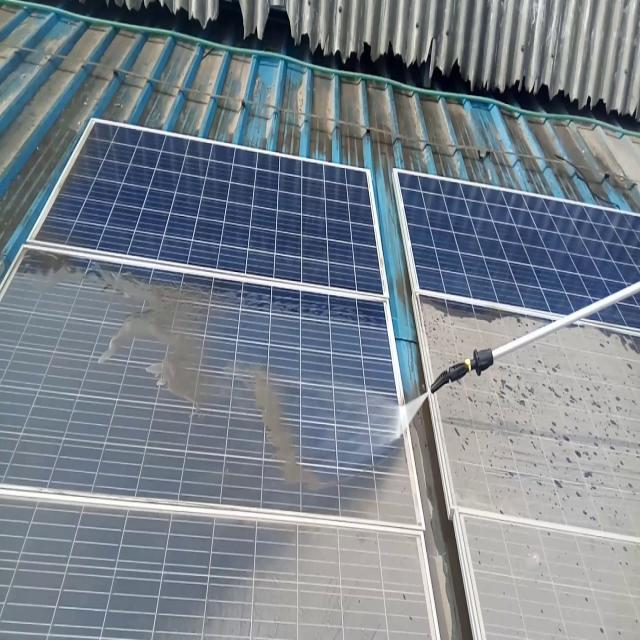dust-solar-panel: (0, 271, 432, 639), (418, 292, 640, 640)
